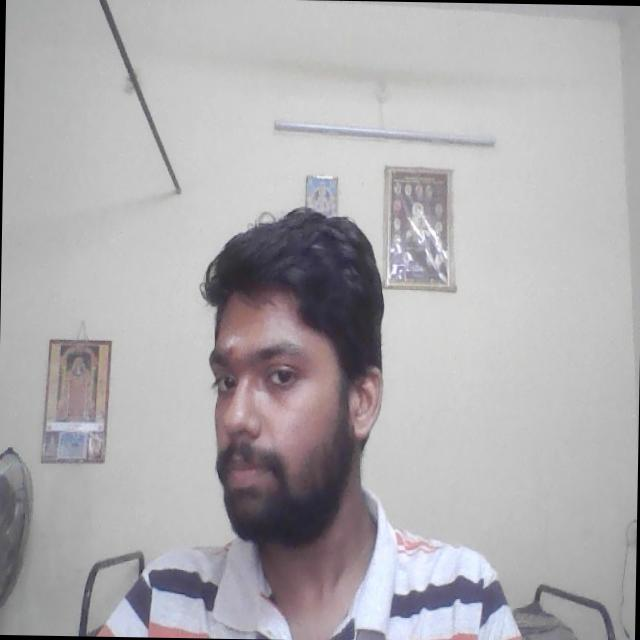Focused: (197, 300, 363, 509)
